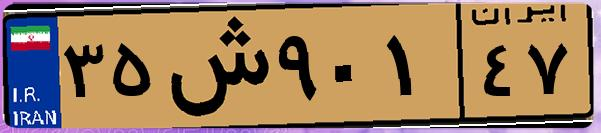0: (330, 28, 385, 110)
1: (385, 28, 445, 110)
3: (57, 26, 110, 100)
4: (475, 38, 525, 113)
5: (110, 28, 158, 98)
7: (525, 38, 570, 115)
9: (270, 28, 330, 110)
ش: (158, 12, 270, 120)
